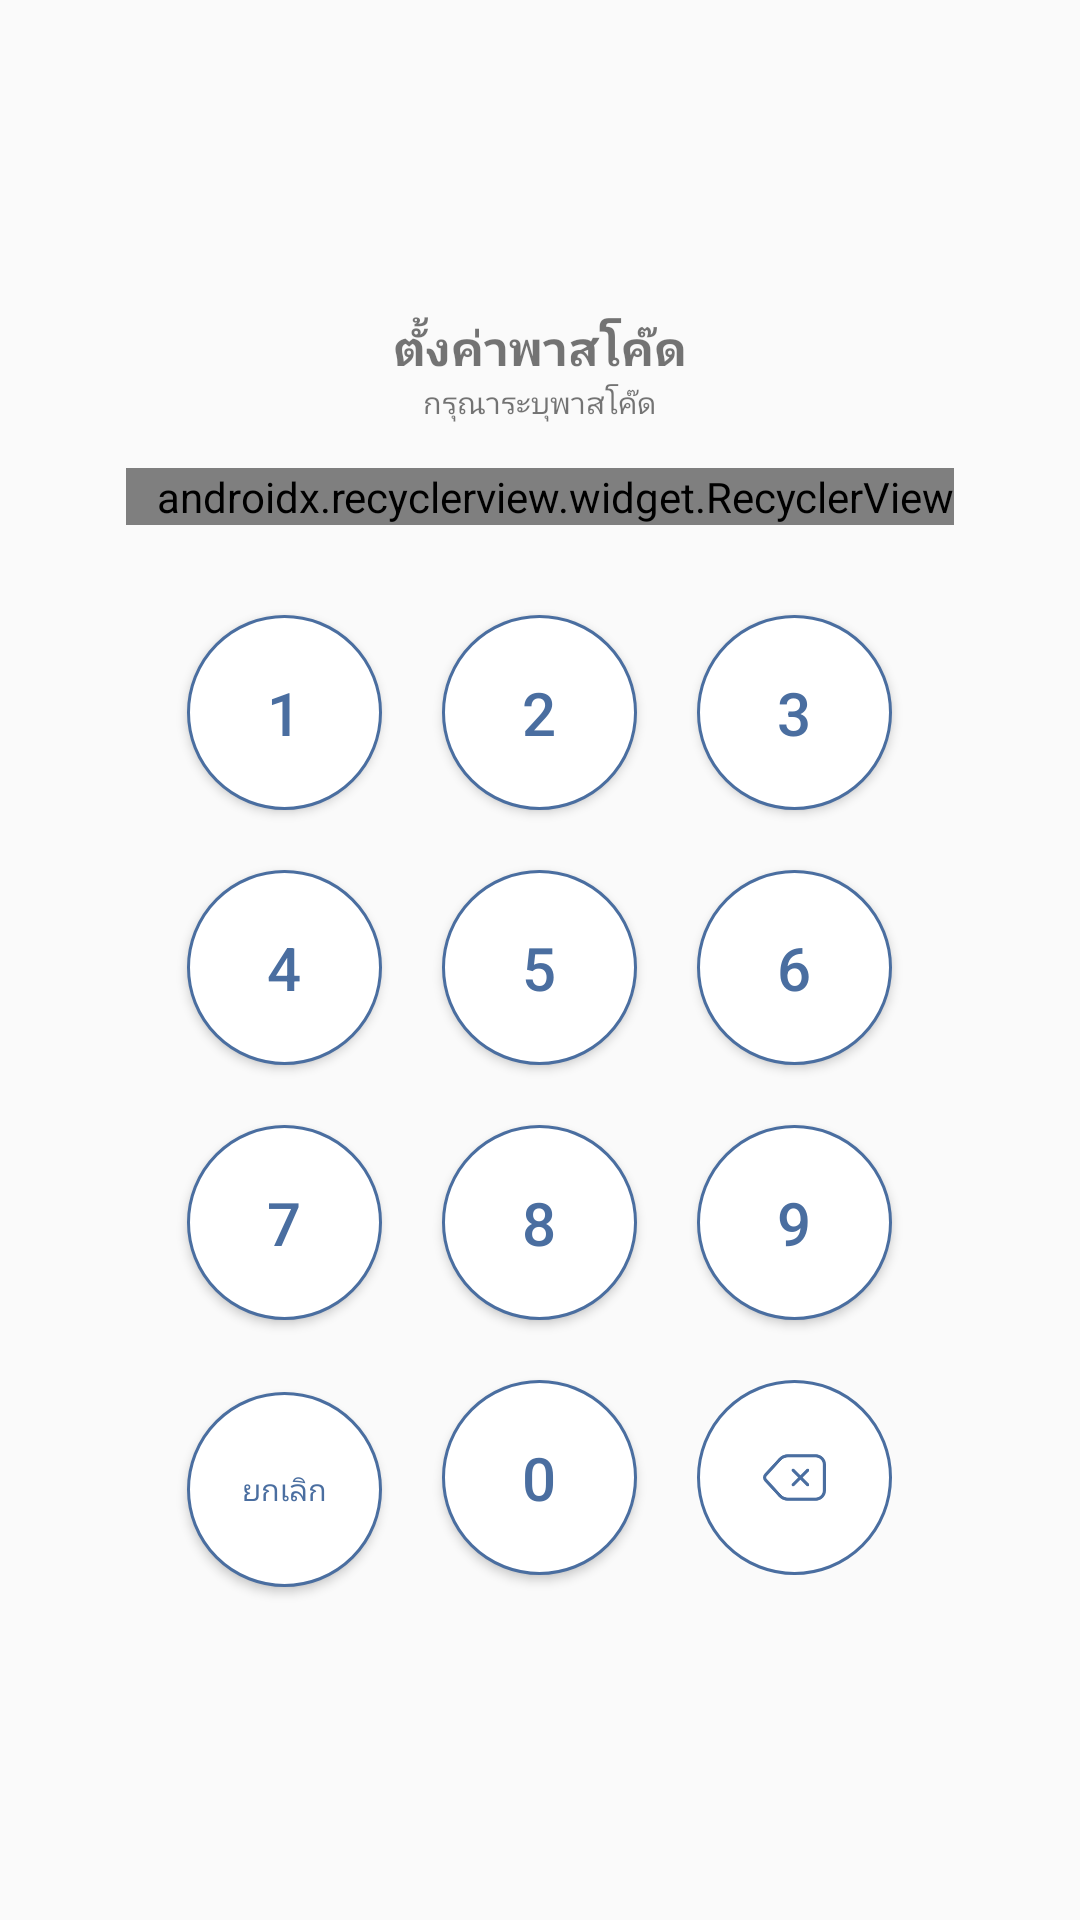

Point at icon controls on the screen. Image size 1080px x 1920px, points as point (x, y).
backspace: point (794, 1477)
